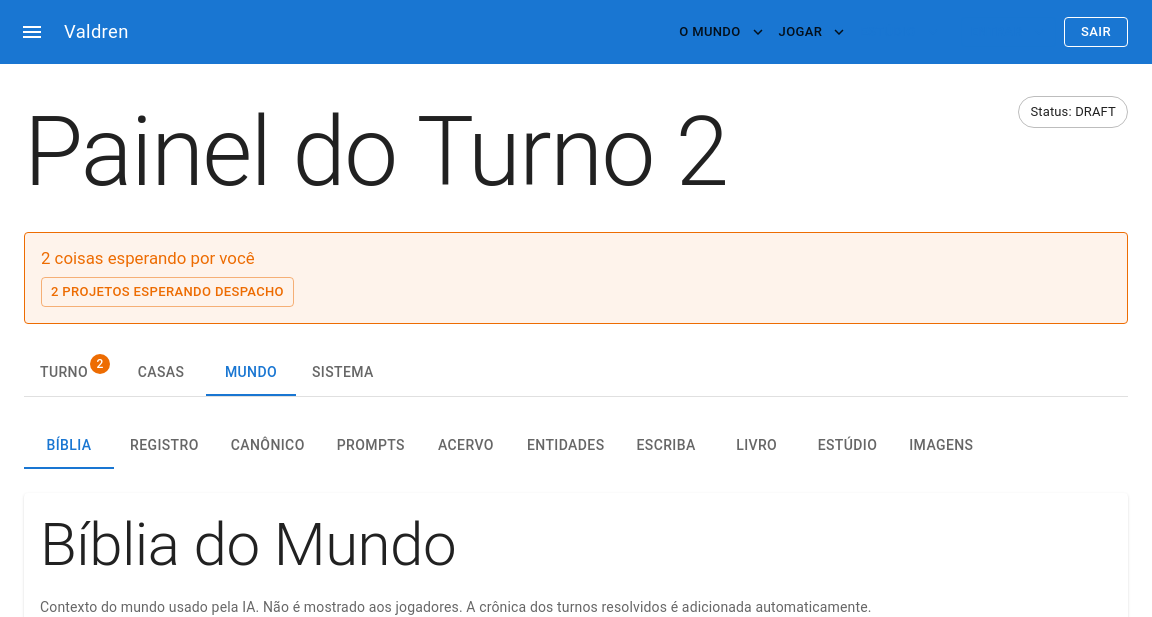
Scenario: AdminPage › a faixa dourada leva à pendência › sai de outra aba e abre os projetos no Turno
Click the button "2 projetos esperando despacho".
click(168, 292)  # box [41, 277, 294, 307]
(page scrolled)
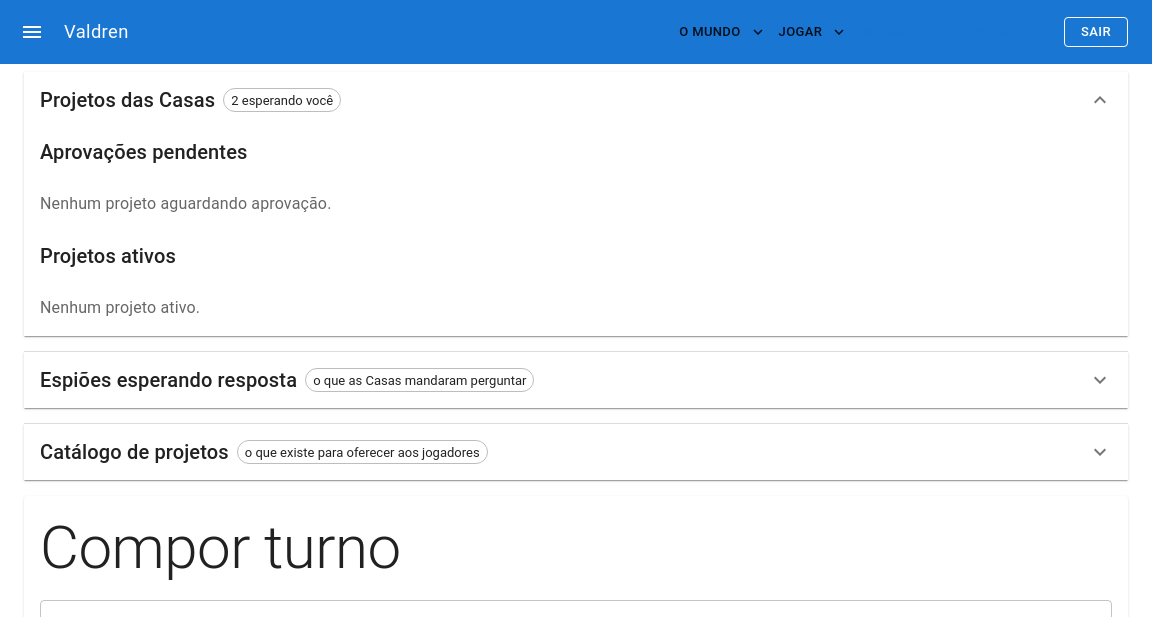
Now the heading "Compor turno" is shown, box [40, 512, 401, 583]
